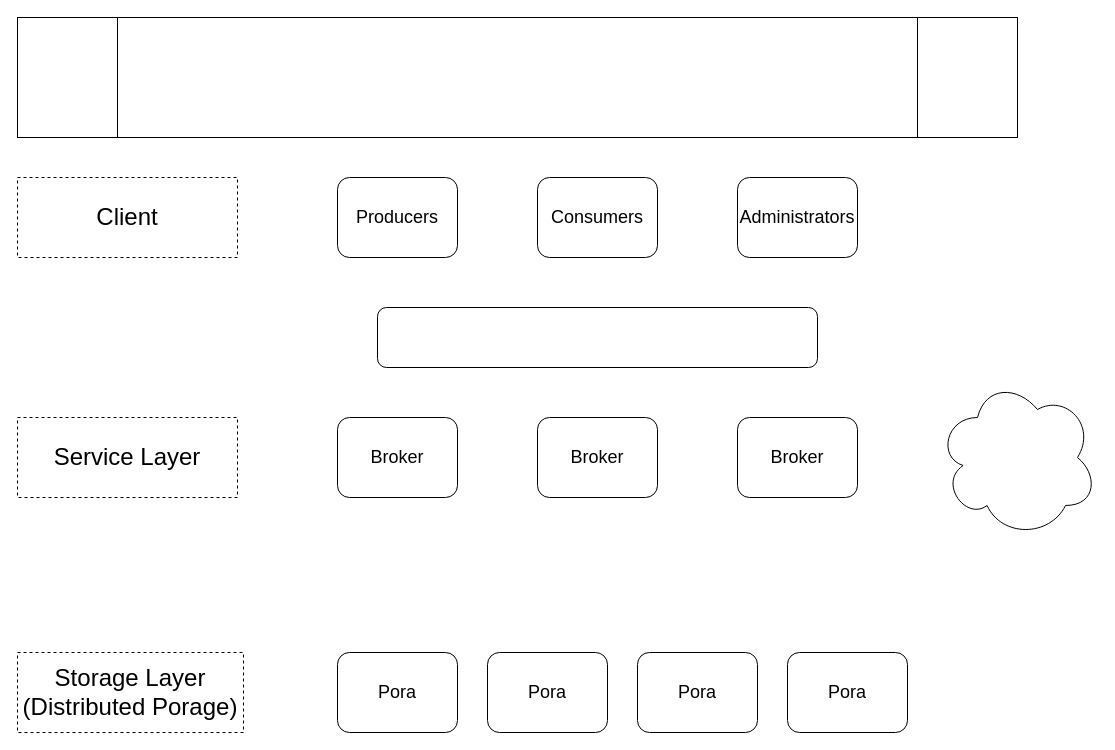
Image size: 1115x750. Some labels were removed from this diagram. Each missing label, with the box of its shape:
Coordination (etcd): (936, 376, 1098, 538)
Load Balancer: (376, 306, 818, 368)
PigeonMQ: (16, 16, 1018, 138)
